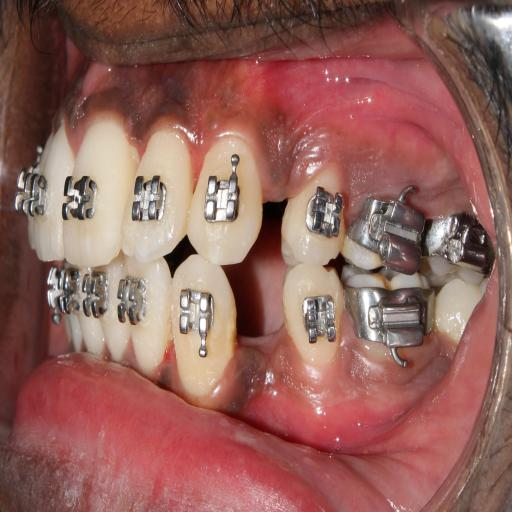correct_brace: (283, 264, 343, 371), (282, 166, 344, 268), (177, 283, 216, 355), (204, 150, 241, 224), (302, 291, 336, 349), (132, 173, 168, 223)
incorrect_brace: (121, 122, 189, 260), (304, 183, 342, 242)
